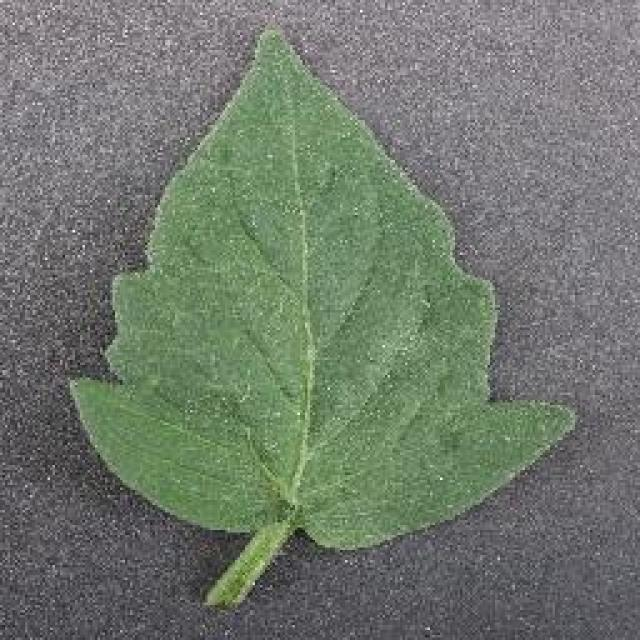Healthy: (65, 23, 587, 625)
